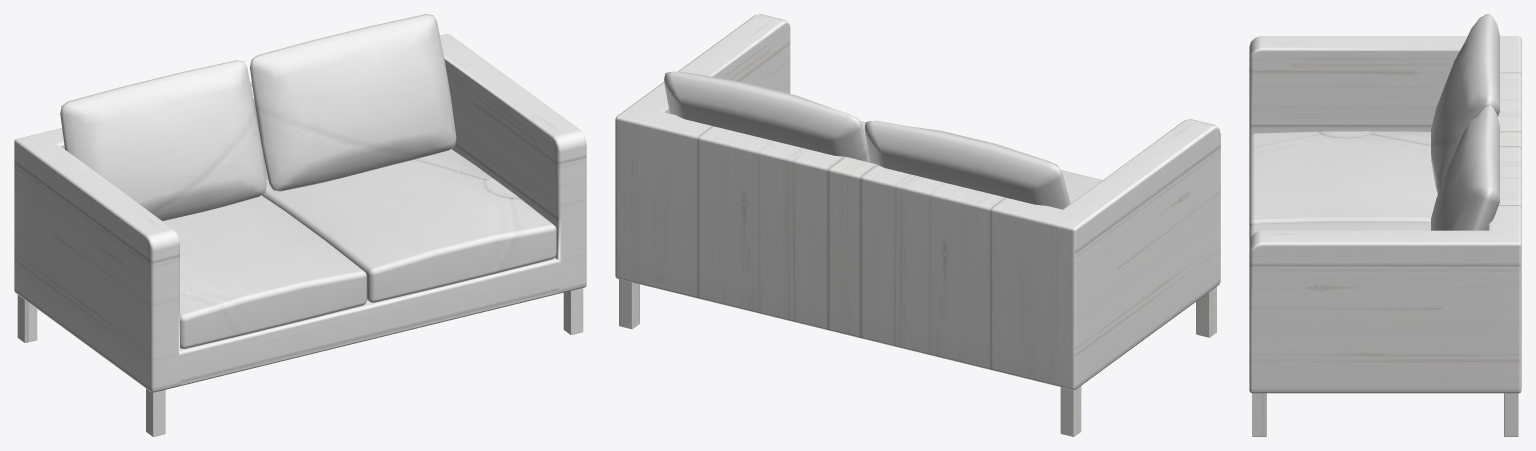
File: sillon.obj
3 views of the same model, side by side, from view 1: azimuth 30°, elevation 25°; view 2: azimuth 150°, elevation 25°; view 3: azimuth 270°, elevation 25° (orthographic). The views are drawn at different scales.
Visible parts, largest first — view 1: WickerLoveSeat_MSH2 Chairs_GRP; view 2: WickerLoveSeat_MSH2 Chairs_GRP; view 3: WickerLoveSeat_MSH2 Chairs_GRP.
Part boxes in pixels (left/top/right/bottom): WickerLoveSeat_MSH2 Chairs_GRP: left=14, top=14, right=586, bottom=436; WickerLoveSeat_MSH2 Chairs_GRP: left=615, top=14, right=1220, bottom=436; WickerLoveSeat_MSH2 Chairs_GRP: left=1249, top=14, right=1521, bottom=436.
Bounding box in the file's own units: 6.86 × 3.62 × 3.78.
Materials: 2 (2 with a texture image).
